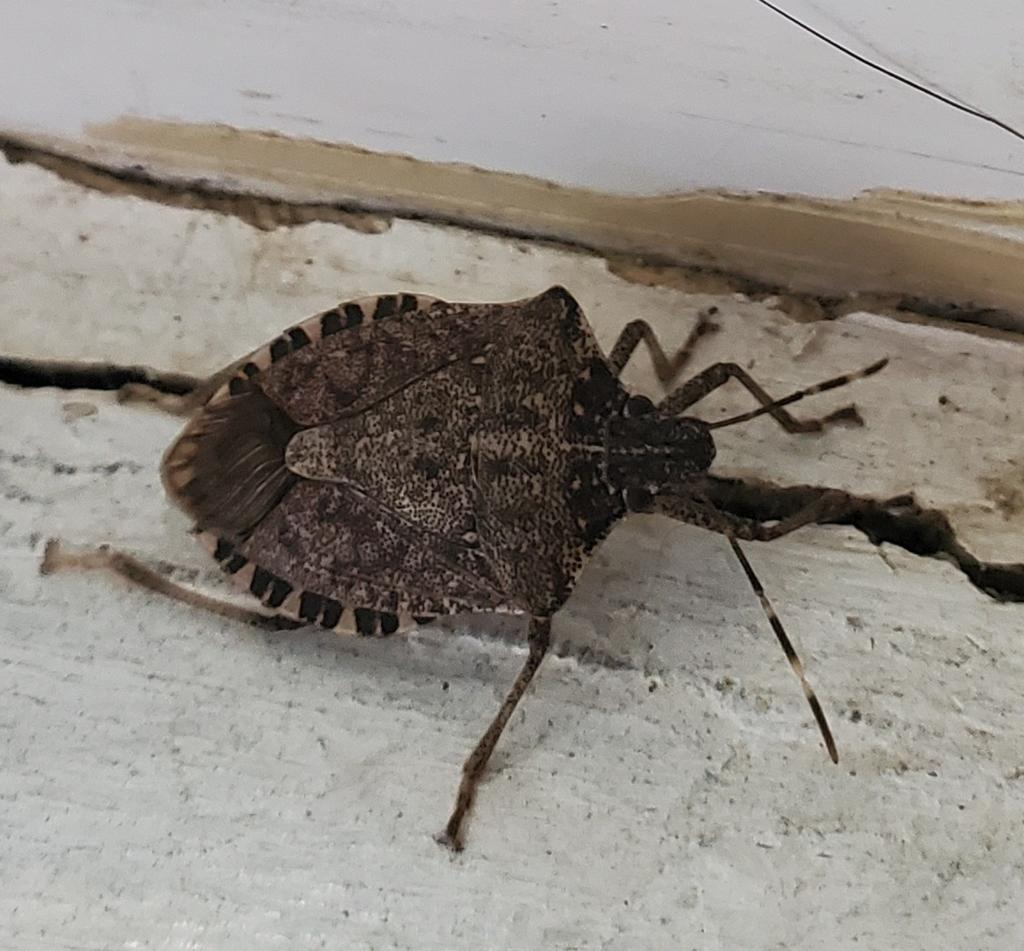stink_bugs: (0, 150, 1024, 951)
